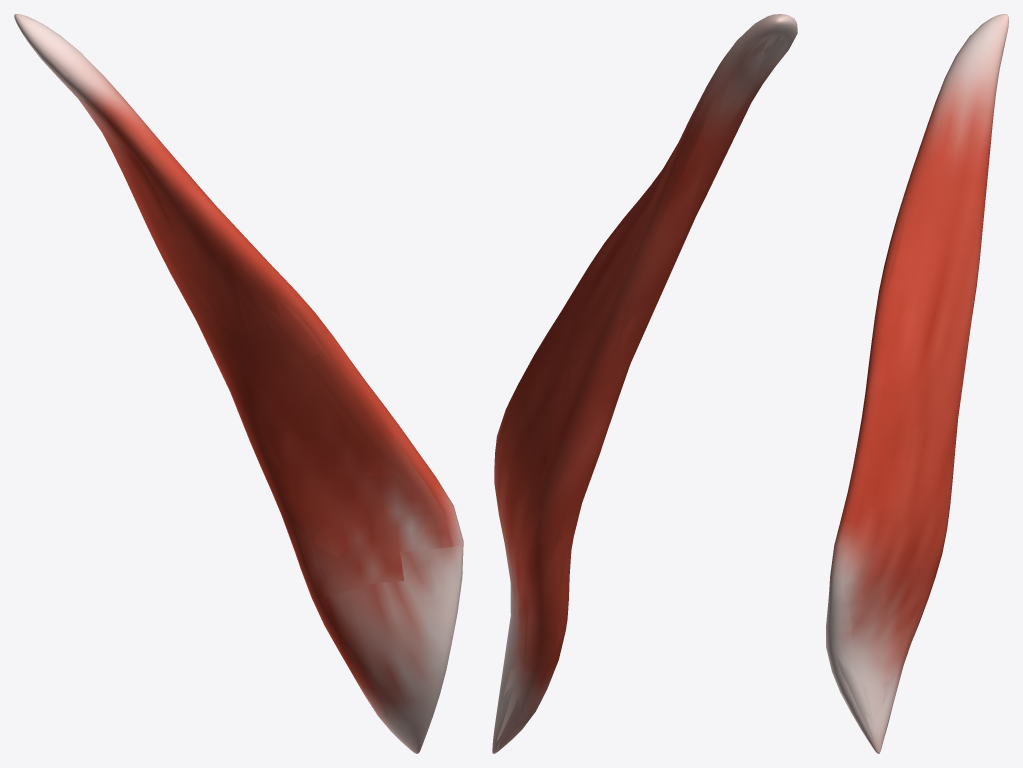
The model's file is R Subclavius.fbx.
3 views of the same model, side by side, from view 1: azimuth 30°, elevation 25°; view 2: azimuth 150°, elevation 25°; view 3: azimuth 270°, elevation 25° (orthographic). The views are drawn at different scales.
Parts seen in each view (by area): view 1: R Subclavius, R Subclavius low; view 2: R Subclavius, R Subclavius low; view 3: R Subclavius, R Subclavius low.
Part boxes in pixels (x1,y1,x2,y2): R Subclavius: [14, 14, 463, 753]; R Subclavius low: [14, 16, 463, 750]; R Subclavius: [492, 14, 797, 753]; R Subclavius low: [495, 21, 794, 750]; R Subclavius: [826, 14, 1008, 753]; R Subclavius low: [826, 30, 1004, 742].
Bounding box in the file's own units: 13.34 × 28.12 × 7.6.
